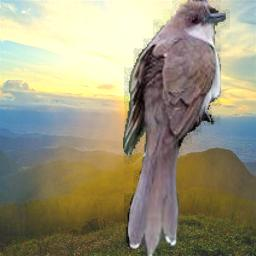Cuckoo: (123, 0, 230, 256)
